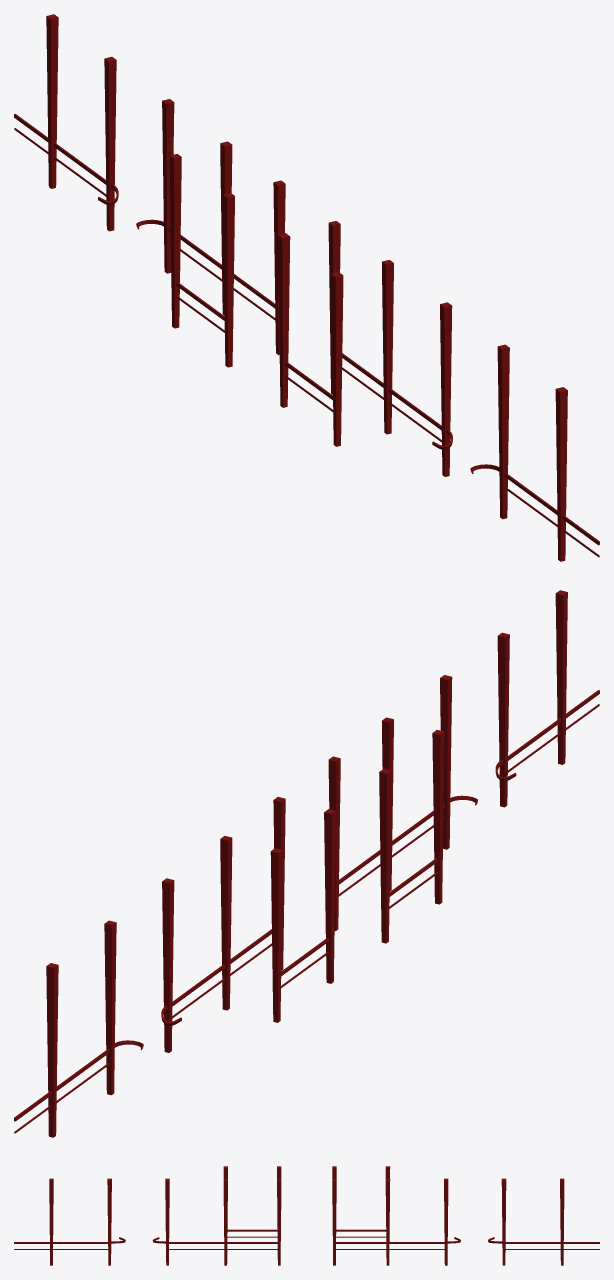
File: SM_Catwalk_Bars_E.fbx
3 views of the same model, one above another, from view 1: azimuth 30°, elevation 25°; view 2: azimuth 150°, elevation 25°; view 3: azimuth 270°, elevation 25° (orthographic). The views are drawn at different scales.
Parts seen in each view (by area): view 1: SM_Catwalk_Bars_E; view 2: SM_Catwalk_Bars_E; view 3: SM_Catwalk_Bars_E.
Part boxes in pixels (<box>): SM_Catwalk_Bars_E: <box>14,14,599,561</box>; SM_Catwalk_Bars_E: <box>14,590,599,1137</box>; SM_Catwalk_Bars_E: <box>14,1166,599,1265</box>.
Size of the model in its own units: 7.14 by 19.95 by 124.
